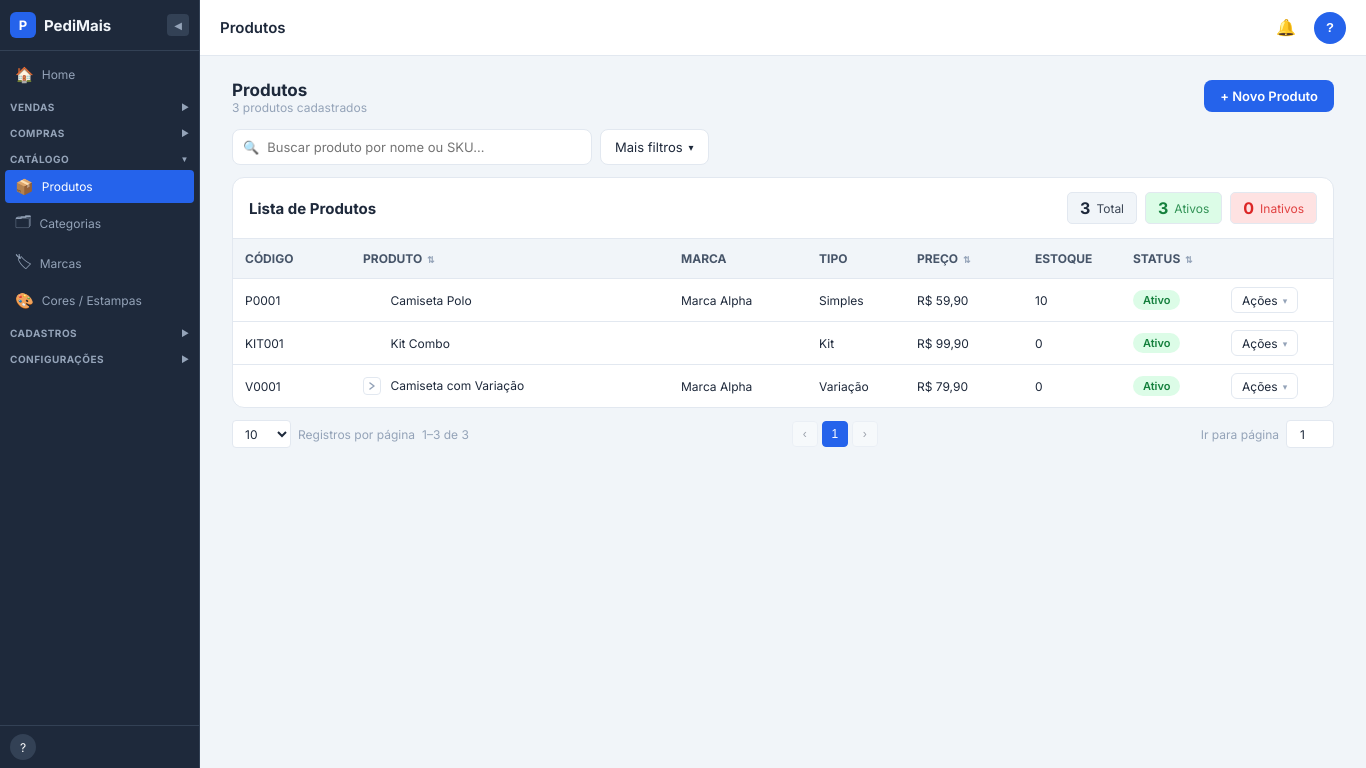
ProductsListView › expands a Variação parent row to reveal its children
Click the element with test id "expandir-v1": (372, 386) [363,377,381,395]
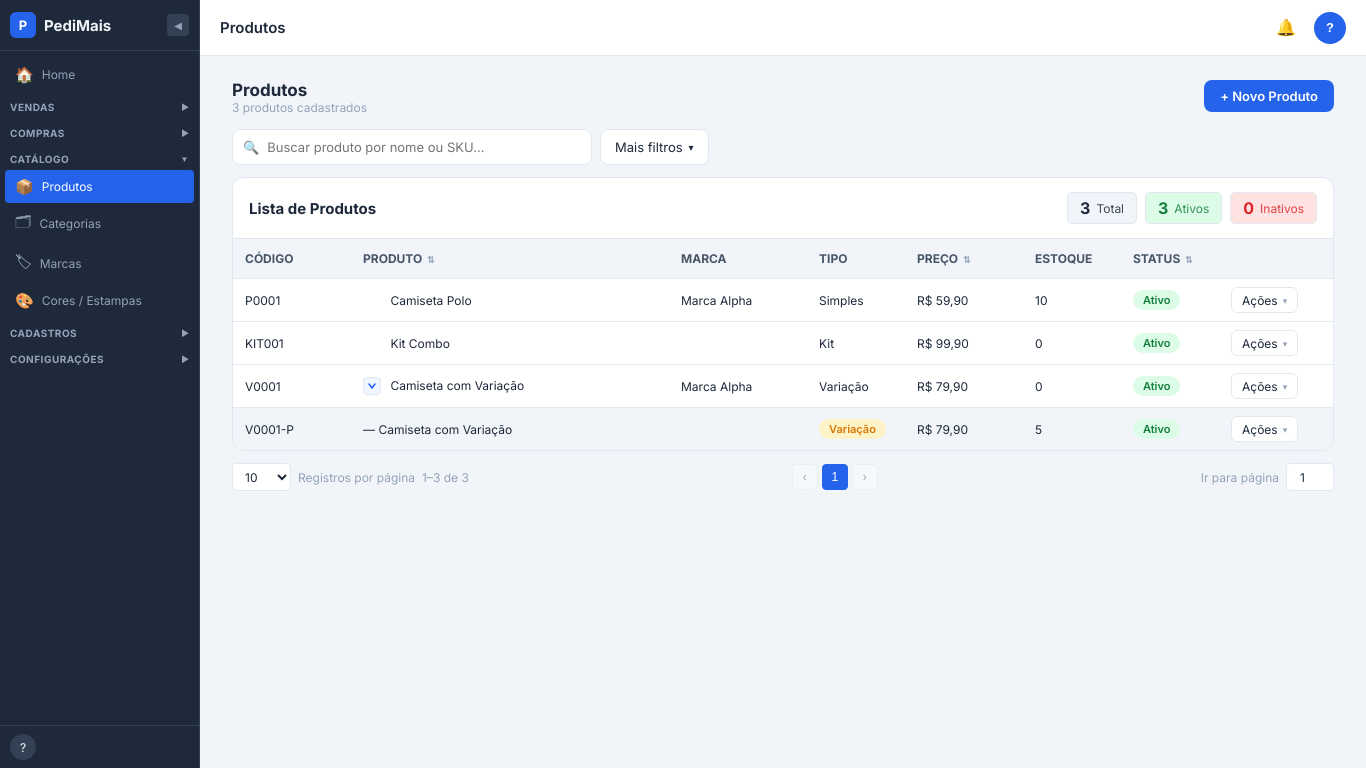
Expected: the element with test id "row-filho-v1-p" is shown, [233,407,1333,450]
Expected: the text "V0001-P" is shown, [245,422,294,436]
